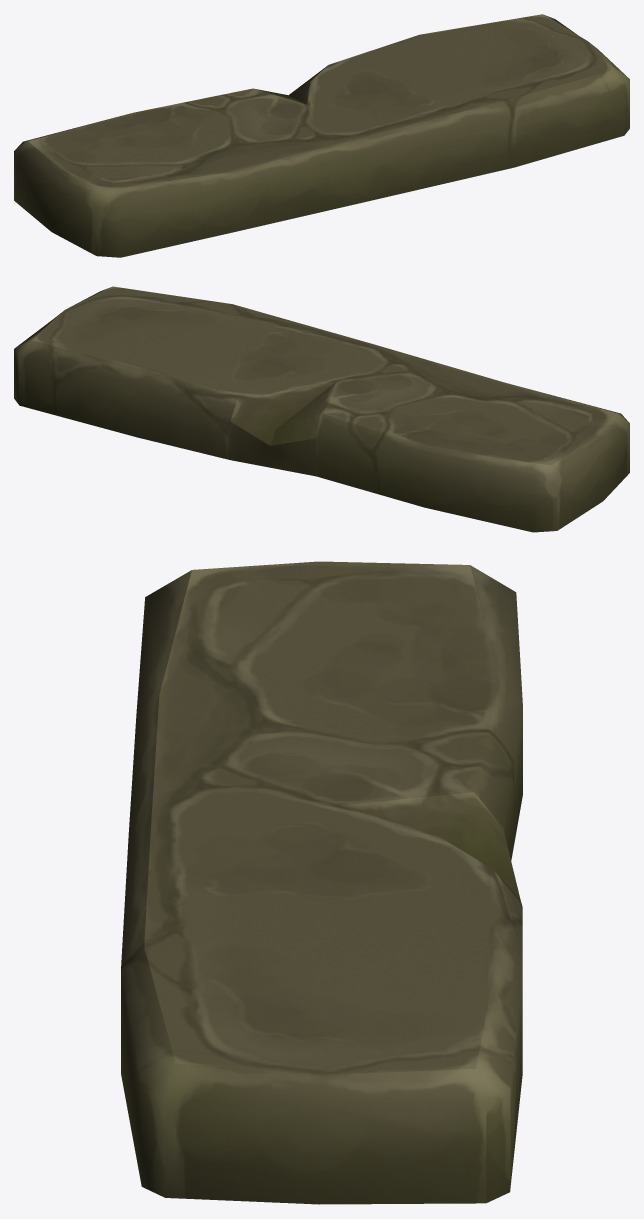
The model's file is Tile_7.FBX.
3 views of the same model, one above another, from view 1: azimuth 30°, elevation 25°; view 2: azimuth 150°, elevation 25°; view 3: azimuth 270°, elevation 25° (orthographic). The views are drawn at different scales.
Visible parts, largest first — view 1: Tile_7; view 2: Tile_7; view 3: Tile_7.
Boxes of the visible parts, left/top/right/bottom form: Tile_7: left=14, top=14, right=629, bottom=257; Tile_7: left=14, top=286, right=629, bottom=532; Tile_7: left=121, top=561, right=522, bottom=1204.
Size of what is drawn, in the model's own units: 275 by 87.61 by 30.64.
